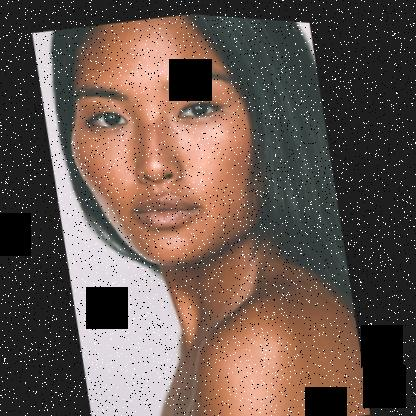Female: (45, 3, 280, 284)
